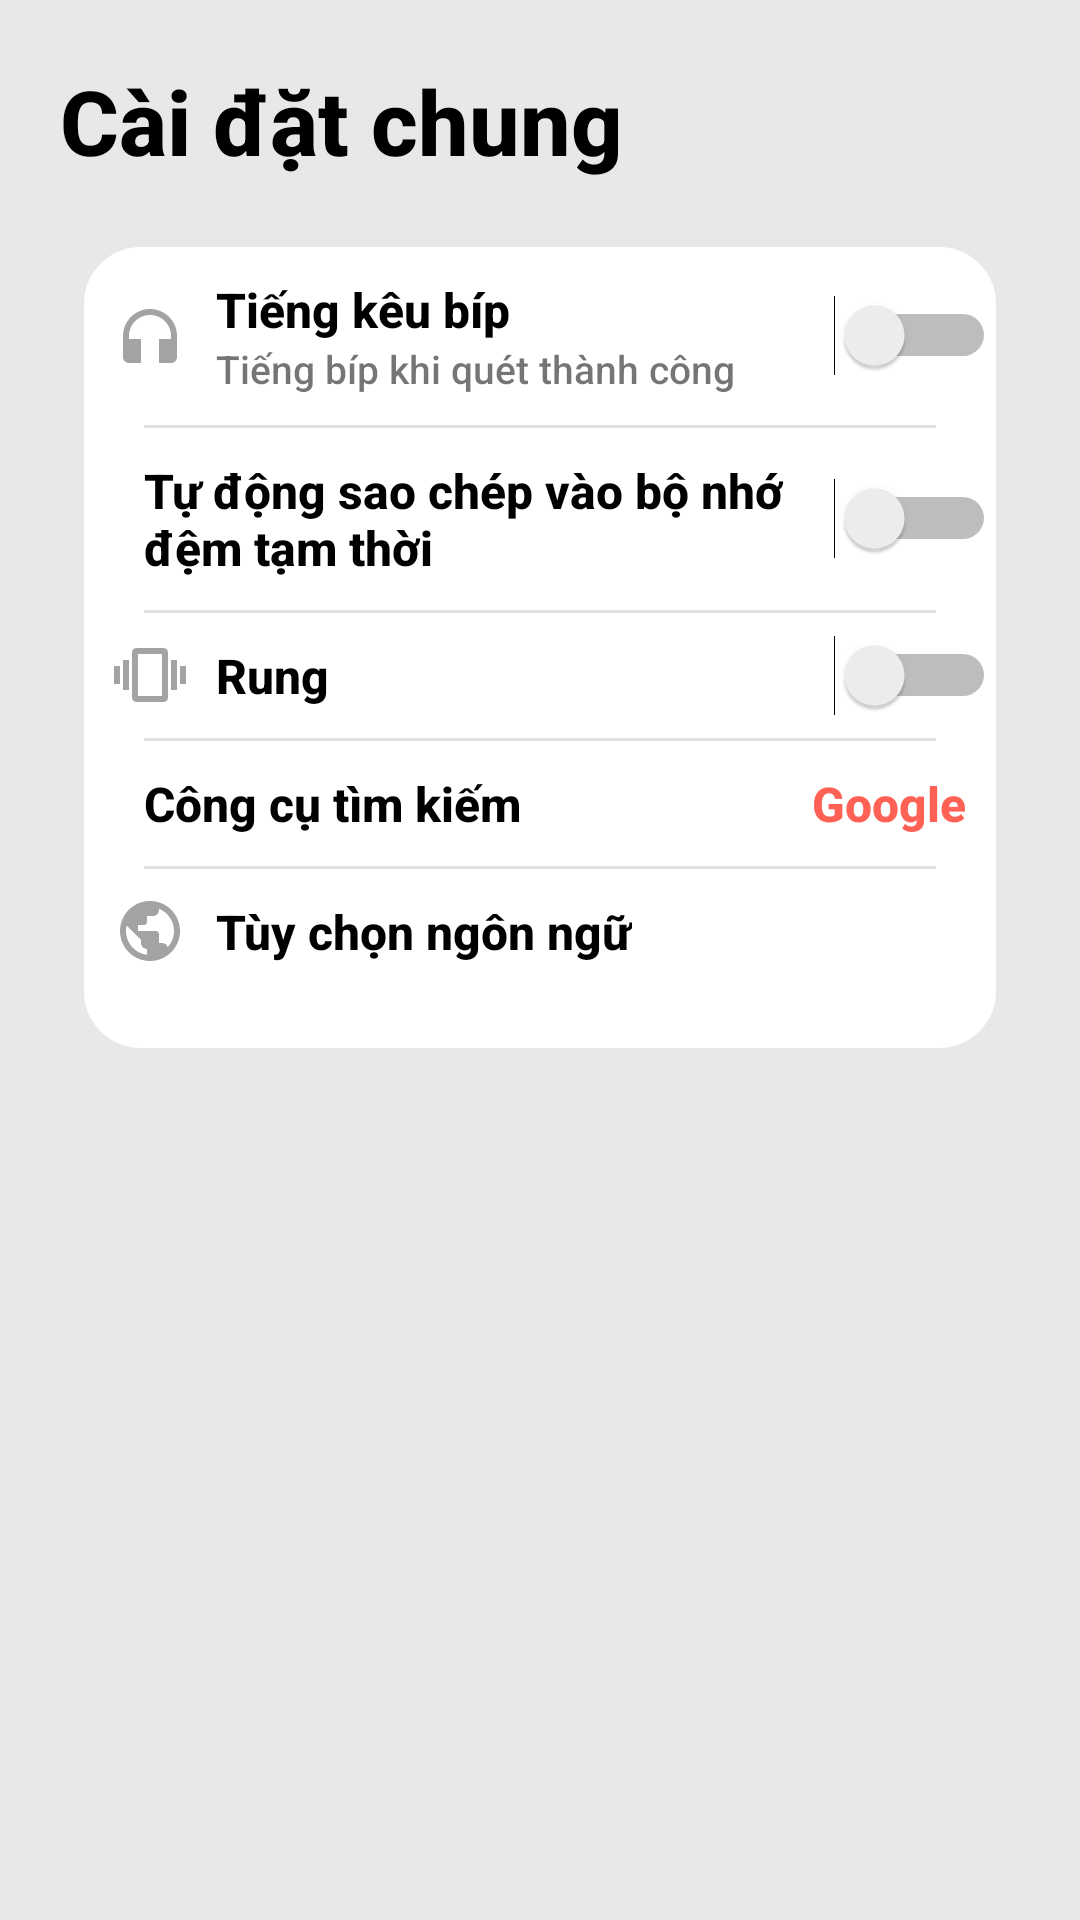

Icons on this 1080 × 1920 Android screen, each with its box as (x1, y1, x2, y2):
headphones: (123, 309, 177, 363)
public: (120, 901, 180, 961)
vibration: (114, 648, 186, 702)
